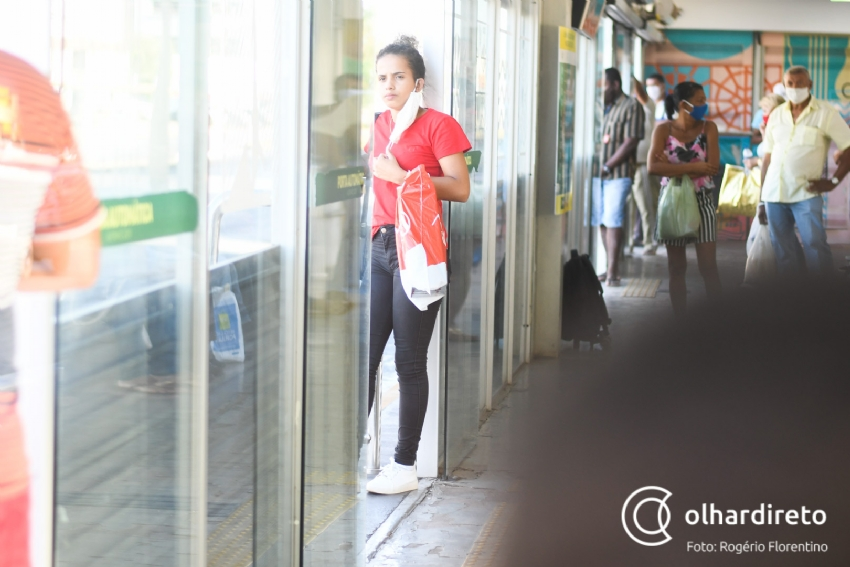mask_weared_incorrect: (372, 45, 428, 119)
